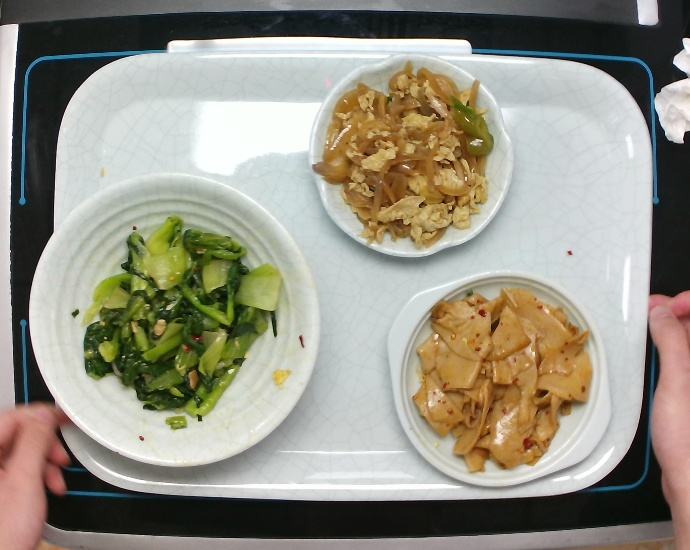JYsf-Ao_Yuan_Wan: (307, 51, 515, 259)
JYsf-Shuang_Er_Pan: (384, 268, 613, 490)
JYsf-Xiao_Tang_Wan: (27, 171, 323, 469)
